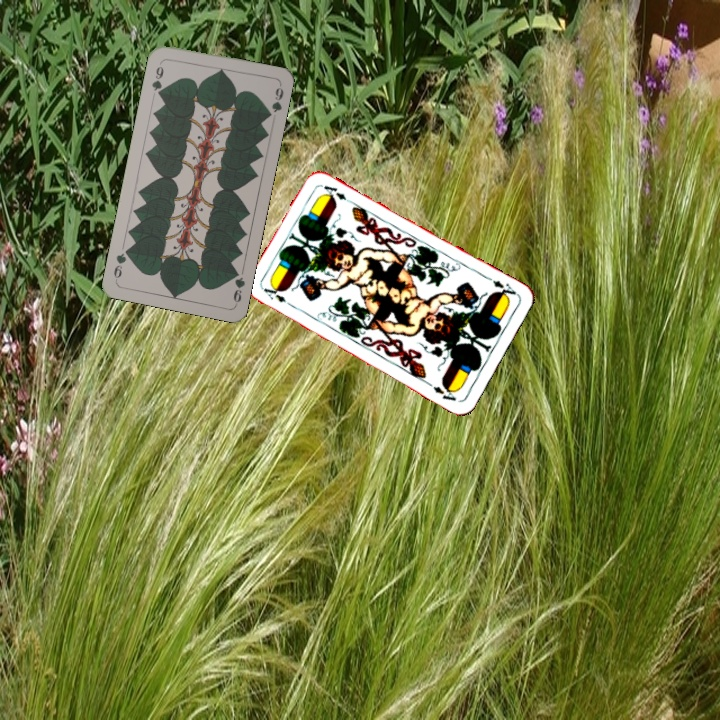EA: (482, 273, 520, 301), (259, 284, 289, 305)
G9: (229, 265, 248, 307), (148, 58, 166, 99)
